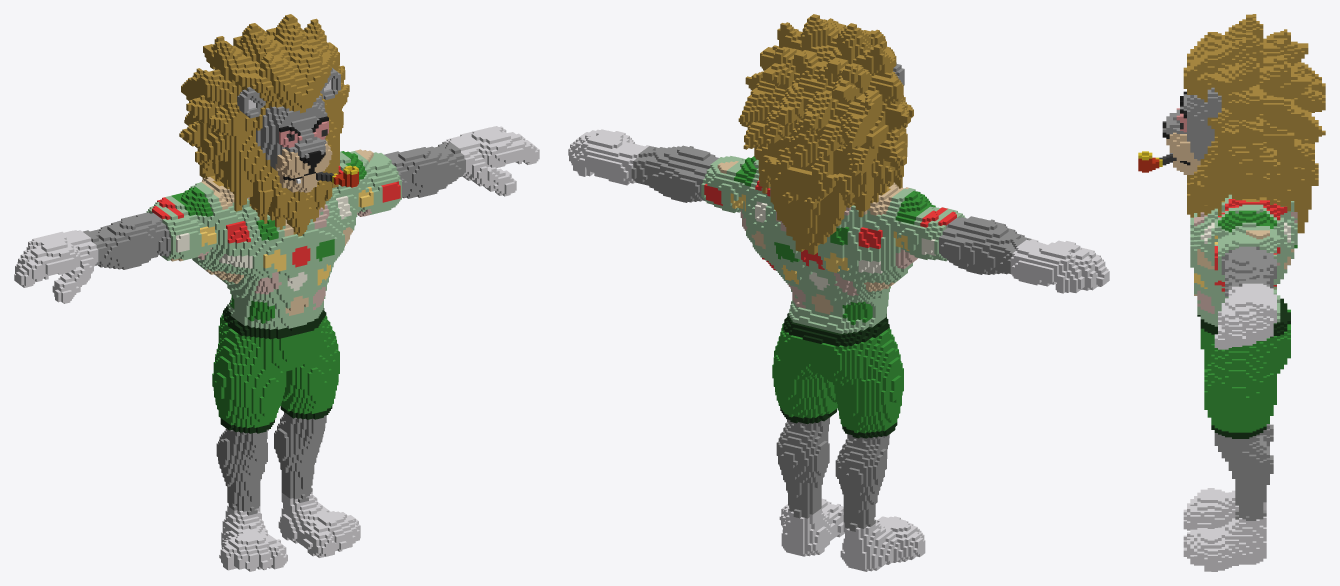
Rendered from 783-CbHVtfup.glb.
3 renders of one model, left to right at view 1: azimuth 30°, elevation 25°; view 2: azimuth 150°, elevation 25°; view 3: azimuth 270°, elevation 25°, orthographic. The views are drawn at different scales.
Parts seen in each view (by area): view 1: pipe; view 2: pipe; view 3: pipe.
Part boxes in pixels (box(x1,y1,x2,y2)): pipe: box(14, 14, 539, 571); pipe: box(568, 14, 1109, 571); pipe: box(1138, 14, 1325, 571).
Size of the model in its own units: 17.2 by 16.5 by 5.4.
5 materials, 5 textured.
